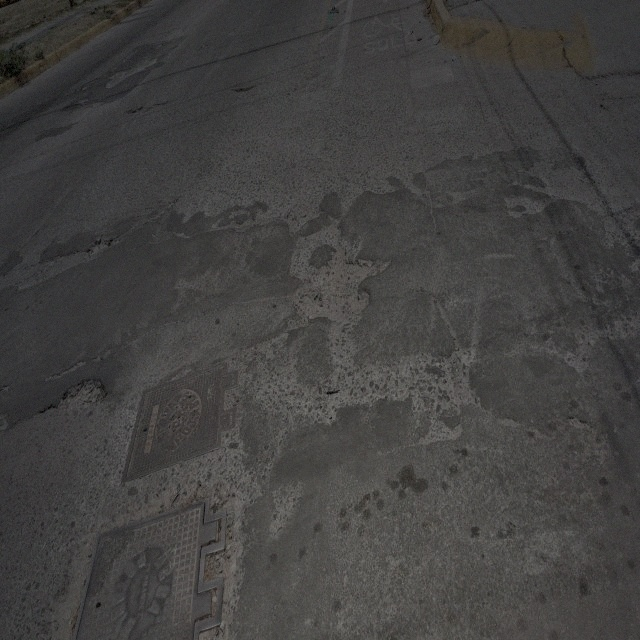pothole: (287, 218, 391, 324), (19, 243, 96, 291), (105, 56, 157, 93), (57, 377, 108, 412), (85, 232, 124, 264)
